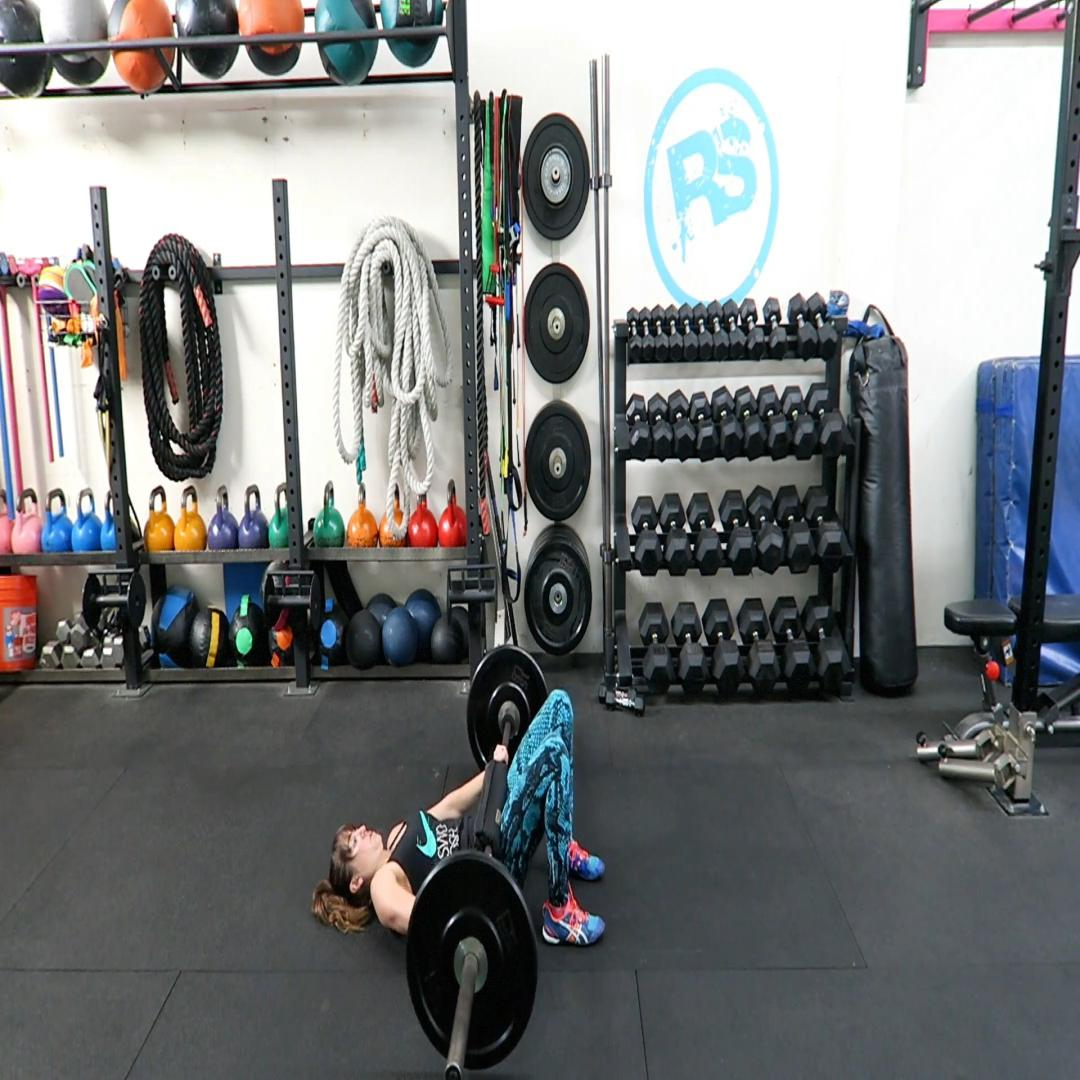Barbell: (405, 857, 538, 1069)
